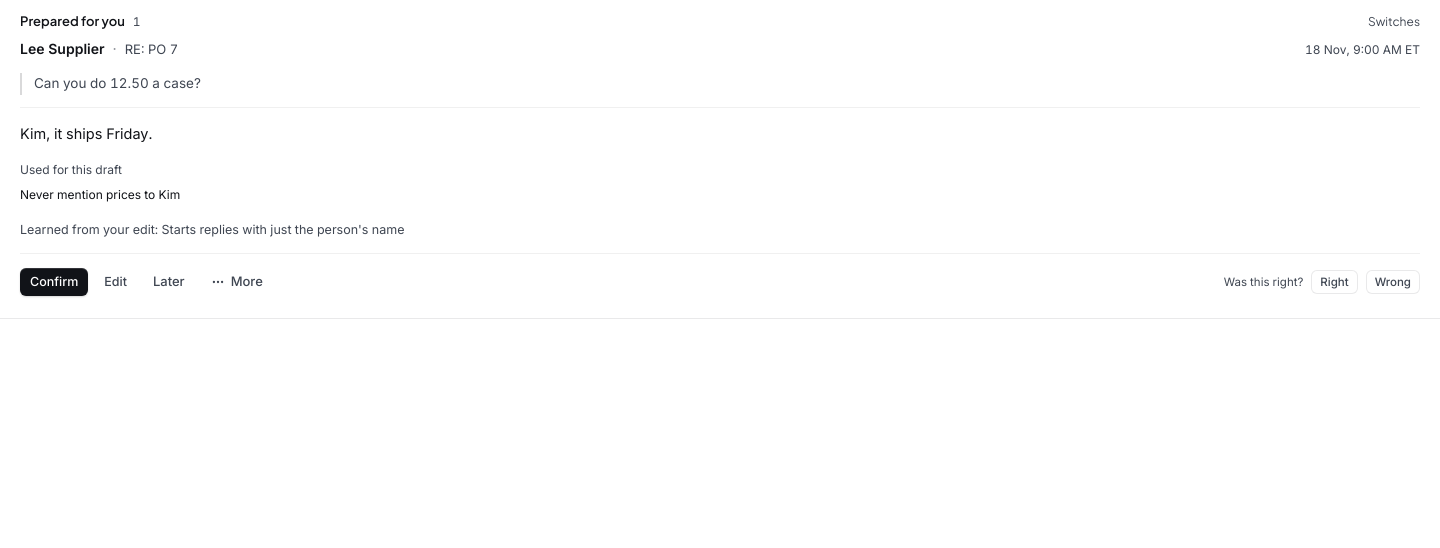
the queue on Home and its Switches tab › a draft shows the preferences it applied and what an edit taught; a preference is saved from the card
Expected: the list item "Never mention prices to Kim" is shown, [20, 187, 180, 202]
Expected: the text "Used for this draft" is shown, [20, 162, 122, 177]
Click the button "More".
click(237, 282)  # box [201, 266, 273, 298]
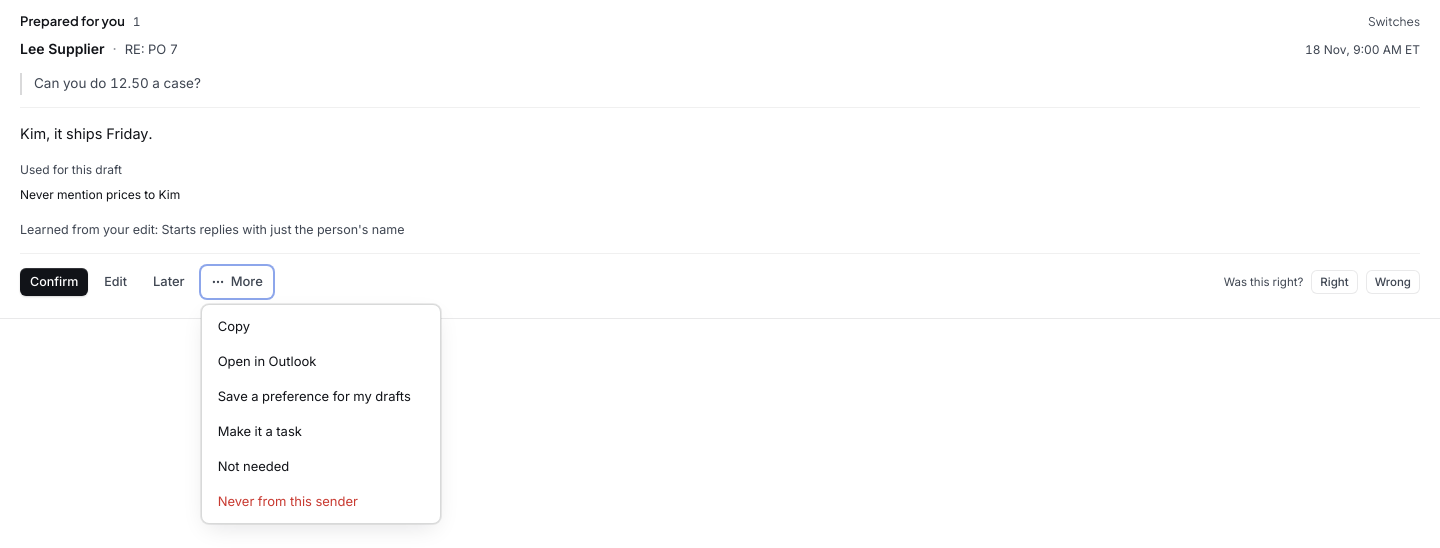
Click the menu item "Save a preference for my drafts".
click(321, 396)  # box [206, 379, 436, 414]
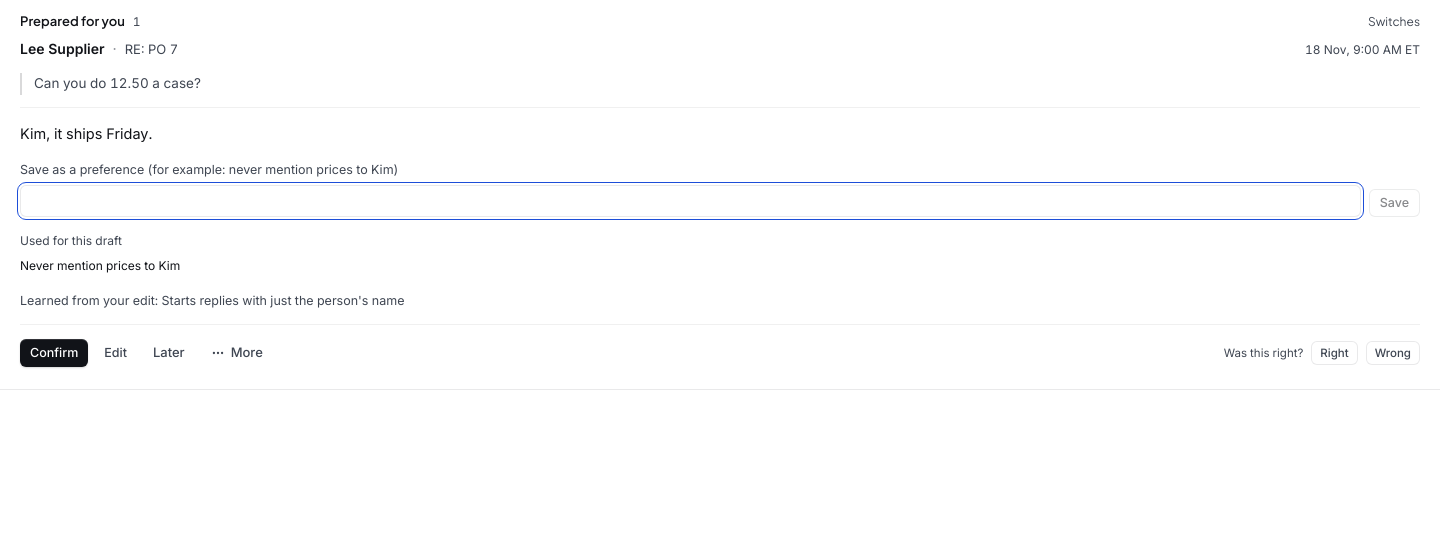
Type "Always sign off V" into the field labelled "Save as a preference".
click(690, 201); type("Always sign off V")  # box [20, 185, 1361, 217]
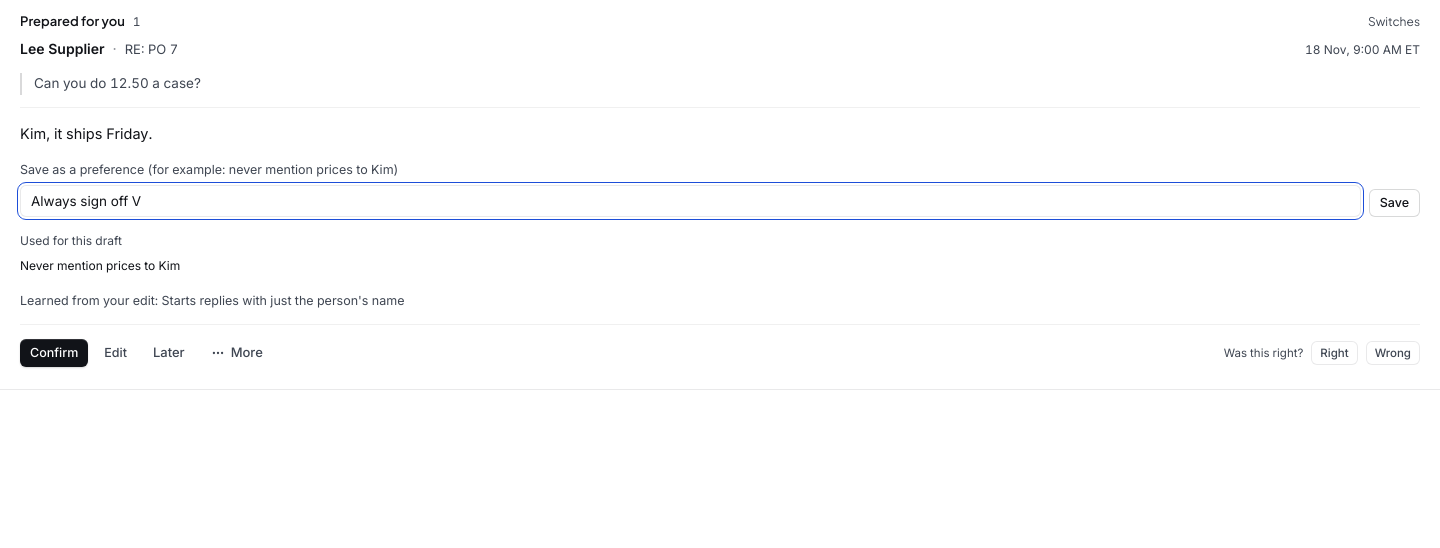
Click the button "Save".
click(1394, 203)  # box [1369, 189, 1420, 217]
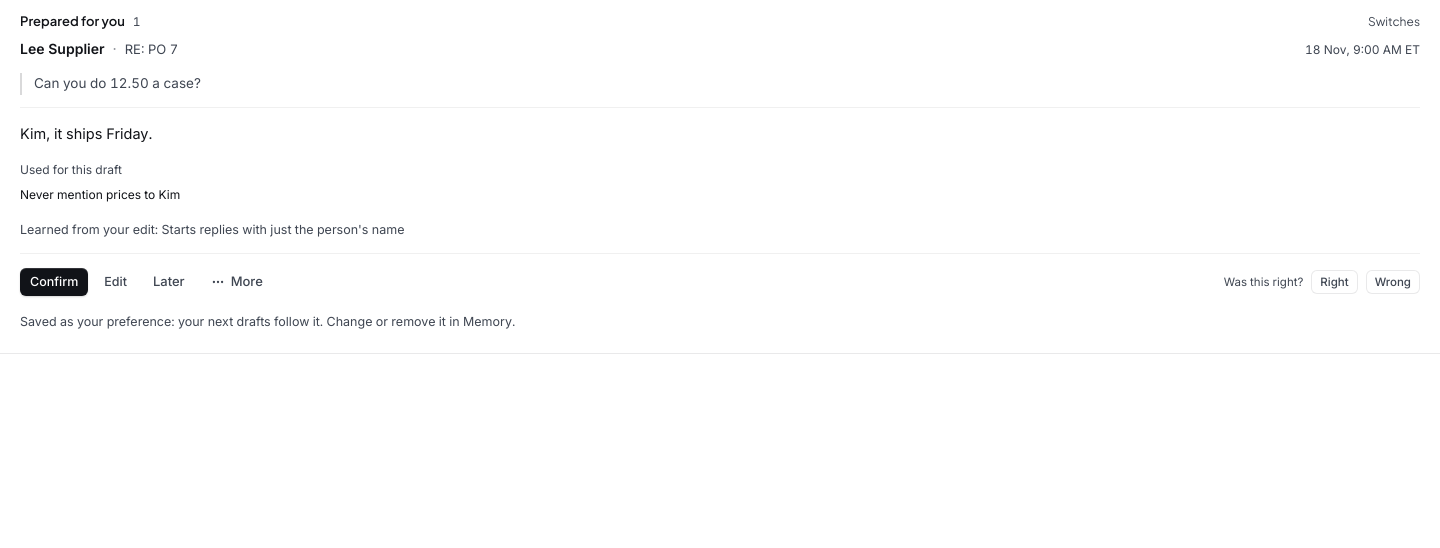
Expected: the text "Saved as your preference" is shown, [20, 314, 515, 329]
